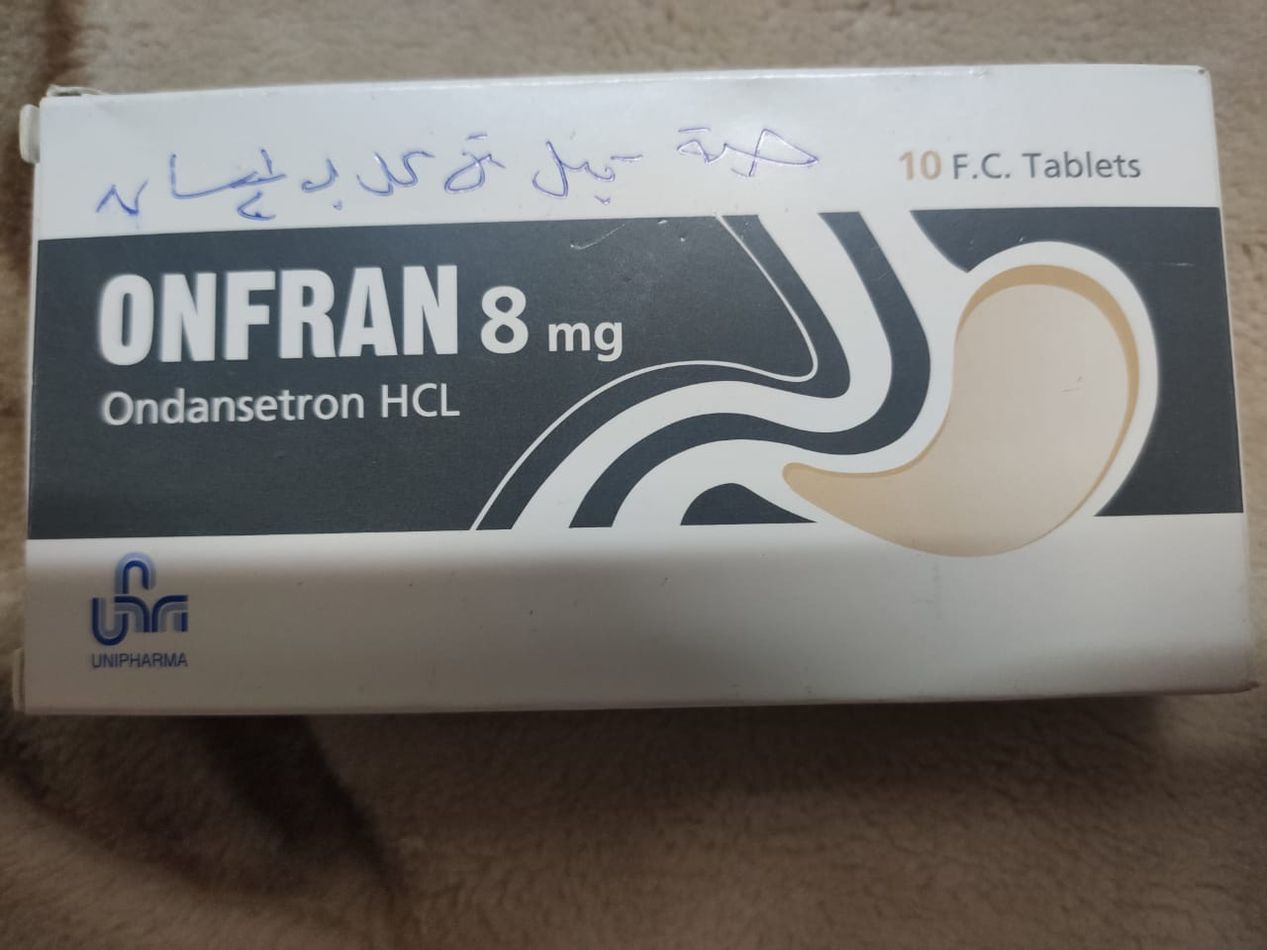Medicine: (17, 62, 1267, 700)
